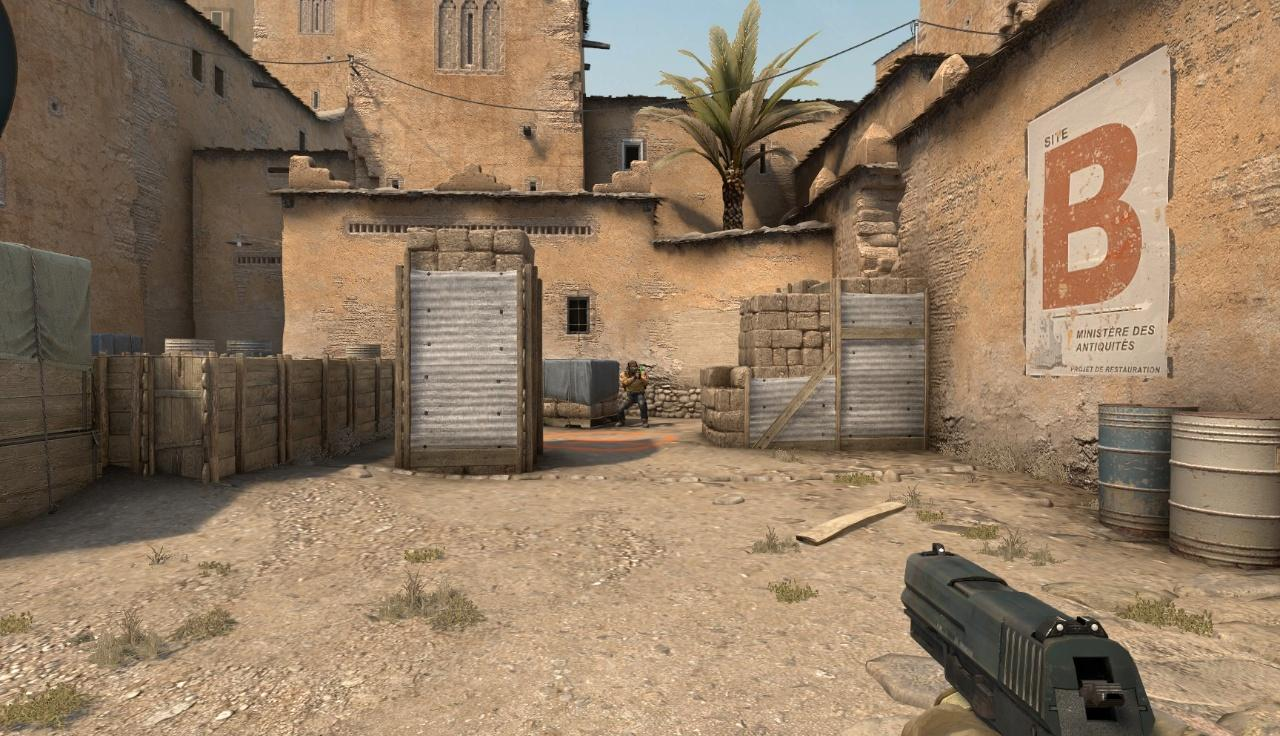pistol: (899, 543, 1220, 736)
tt: (615, 360, 649, 428)
tthead: (627, 361, 639, 374)
